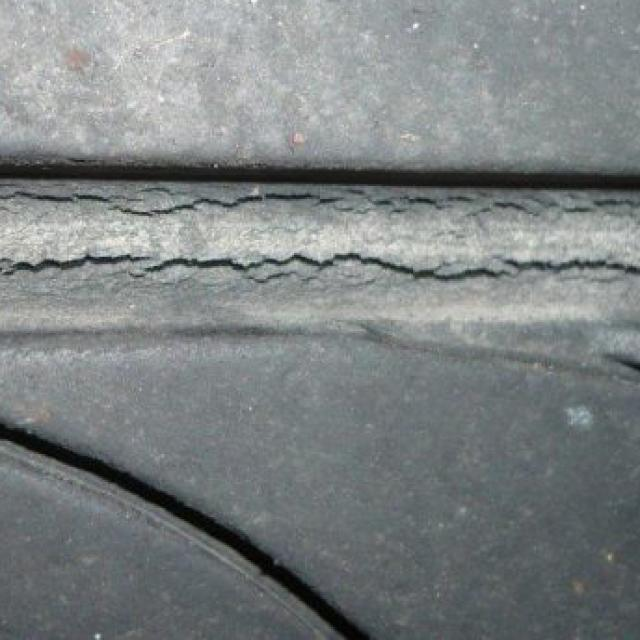Cracks: (0, 138, 640, 304)
Non-defective: (0, 361, 640, 640)
